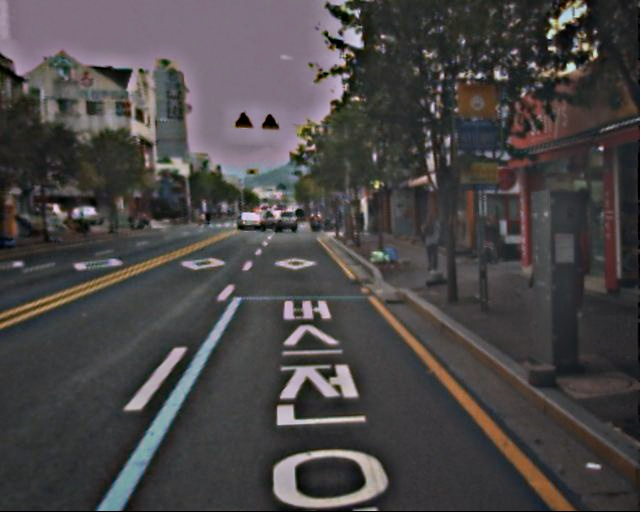person: (420, 211, 447, 274), (477, 217, 498, 266)
